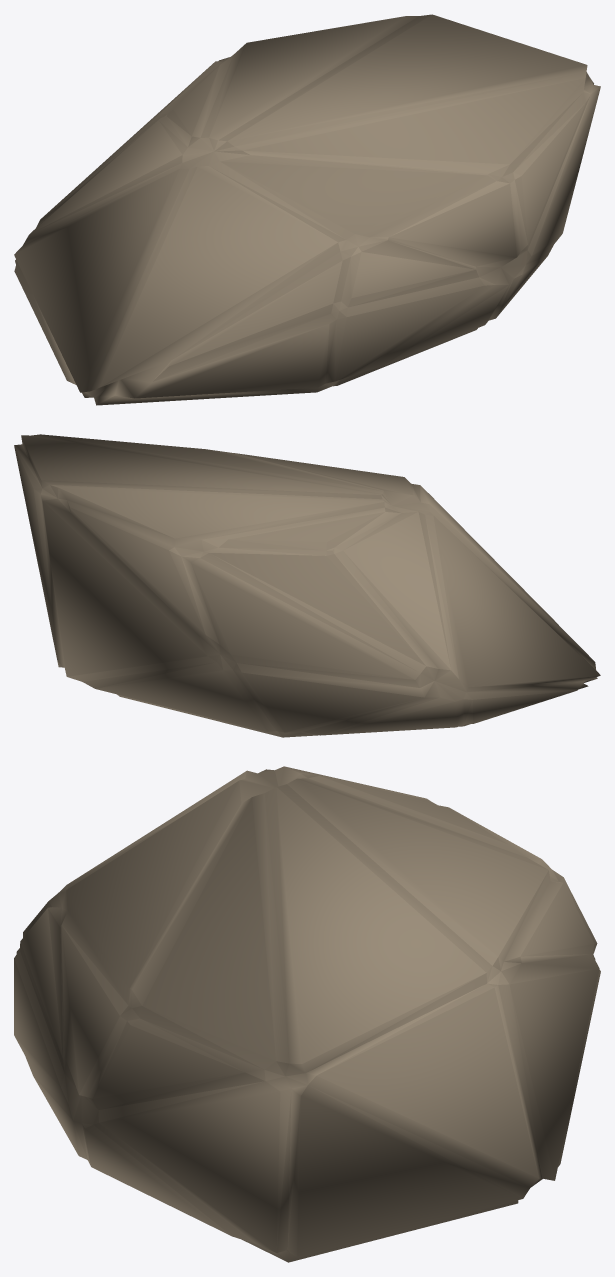
File: Granit_V2_1_LOD0.fbx
3 renders of one model, top to bottom at view 1: azimuth 30°, elevation 25°; view 2: azimuth 150°, elevation 25°; view 3: azimuth 270°, elevation 25°, orthographic. The views are drawn at different scales.
Visible parts, largest first — view 1: Granit_V2_1; view 2: Granit_V2_1; view 3: Granit_V2_1.
Boxes of the visible parts, x1,y1,x2,y2 form: Granit_V2_1: (14,14,600,405); Granit_V2_1: (14,434,600,737); Granit_V2_1: (14,766,600,1262).
Size of the model in its own units: 346 by 110 by 225.
